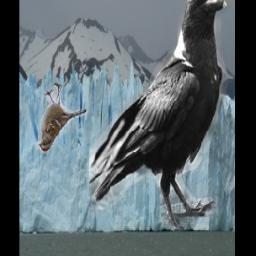Crow: (88, 0, 231, 230)
Sparrow: (37, 81, 87, 156)
